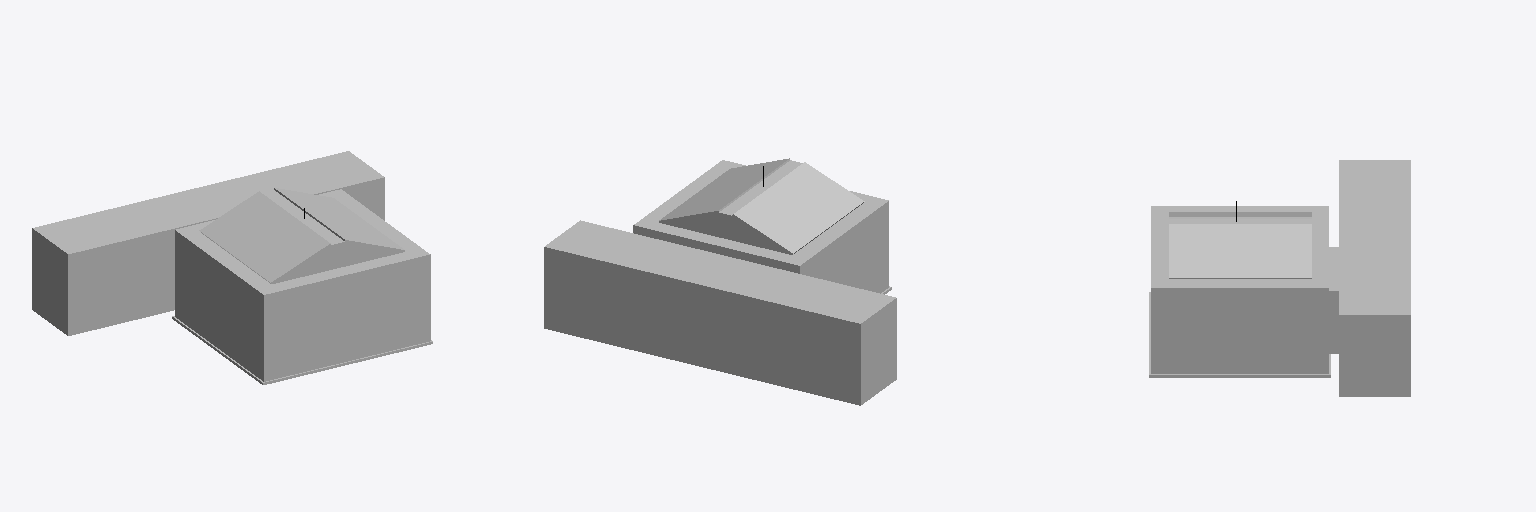
The picture shows the model from 3 angles: view 1: azimuth 30°, elevation 25°; view 2: azimuth 150°, elevation 25°; view 3: azimuth 270°, elevation 25°; orthographic projection.
Parts seen in each view (by area): view 1: Cube.001_Cube.002; view 2: Cube.001_Cube.002; view 3: Cube.001_Cube.002.
Boxes of the visible parts, x1,y1,x2,y2 form: Cube.001_Cube.002: [32, 151, 432, 384]; Cube.001_Cube.002: [544, 158, 896, 405]; Cube.001_Cube.002: [1149, 160, 1410, 396].
Size of the model in its own units: 39.03 by 15.87 by 27.98.
Materials: 2 (1 with a texture image).